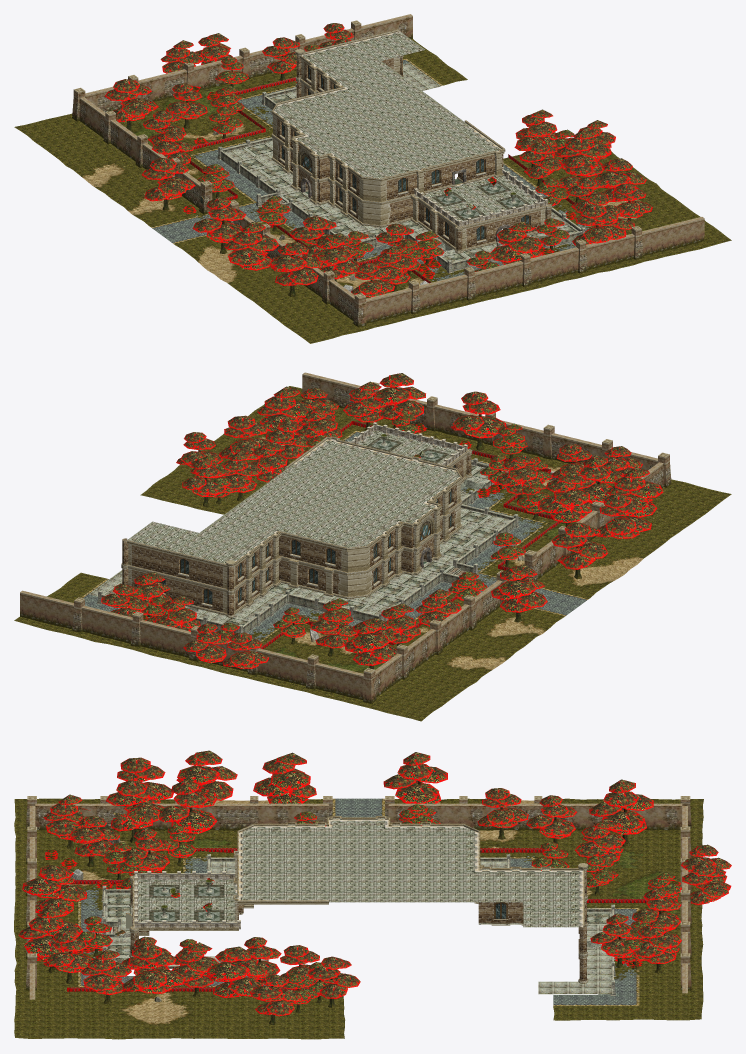
The model's file is OldSchoolHouse.obj.
3 renders of one model, top to bottom at view 1: azimuth 30°, elevation 25°; view 2: azimuth 150°, elevation 25°; view 3: azimuth 270°, elevation 25°, orthographic. The views are drawn at different scales.
Parts seen in each view (by area): view 1: Object.009; view 2: Object.009; view 3: Object.009.
Part boxes in pixels (x1=…): Object.009: x1=14, y1=14, x2=731, y2=343; Object.009: x1=14, y1=372, x2=731, y2=721; Object.009: x1=14, y1=750, x2=731, y2=1039.
Size of the model in its own units: 76.3 by 10.2 by 95.97.
14 materials, 14 textured.
